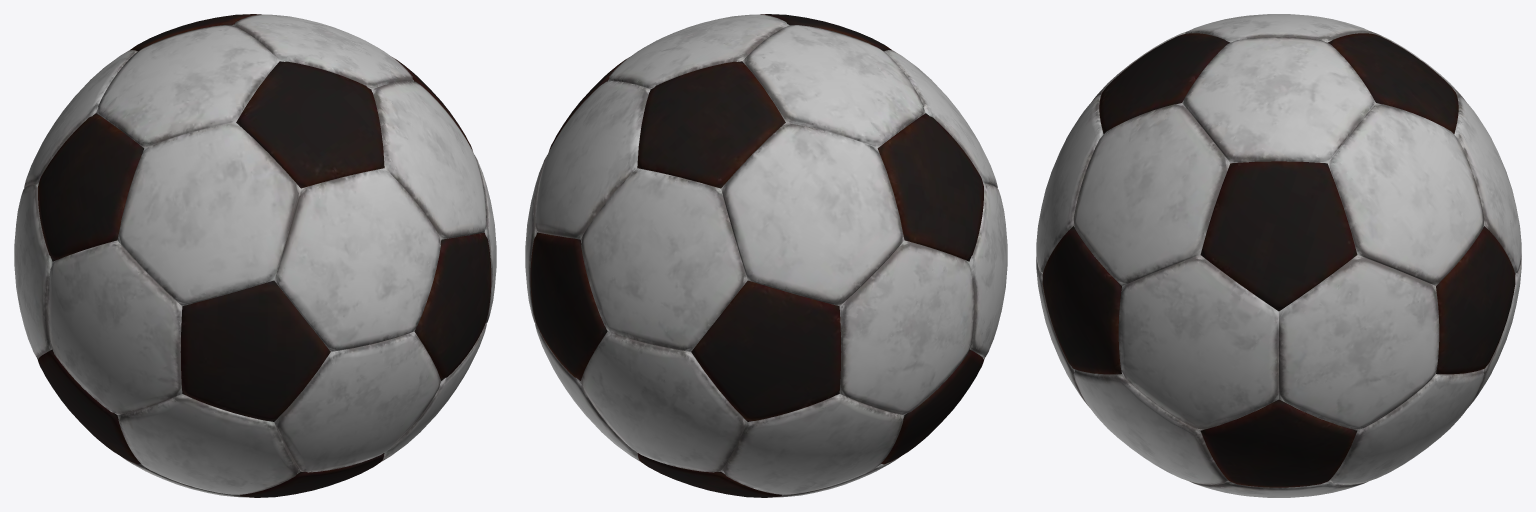
Rendered from football.glb.
The picture shows the model from 3 angles, left to right: view 1: azimuth 30°, elevation 25°; view 2: azimuth 150°, elevation 25°; view 3: azimuth 270°, elevation 25°; orthographic projection.
Visible parts, largest first — view 1: Sketchfab Model; view 2: Sketchfab Model; view 3: Sketchfab Model.
Boxes of the visible parts, box(x1,y1,x2,y2) form: Sketchfab Model: box(14, 14, 496, 497); Sketchfab Model: box(525, 14, 1007, 497); Sketchfab Model: box(1036, 14, 1521, 497).
Size of the model in its own units: 4.45 by 4.45 by 4.45.
1 material, 1 textured.
